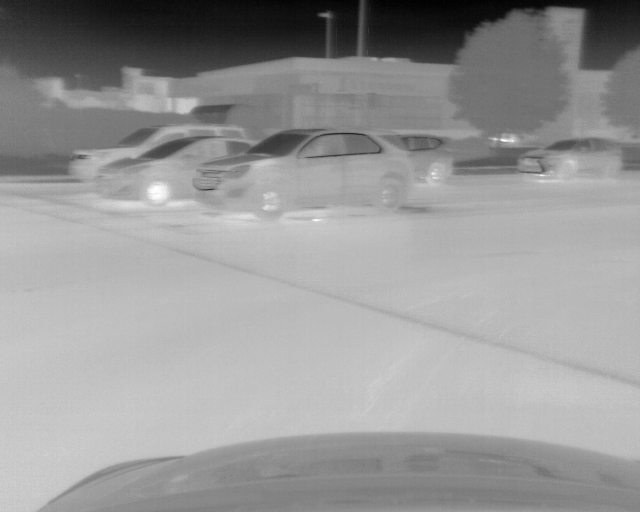car: (194, 129, 414, 217), (69, 120, 243, 185), (97, 138, 253, 205), (516, 138, 621, 181), (397, 129, 452, 184)
